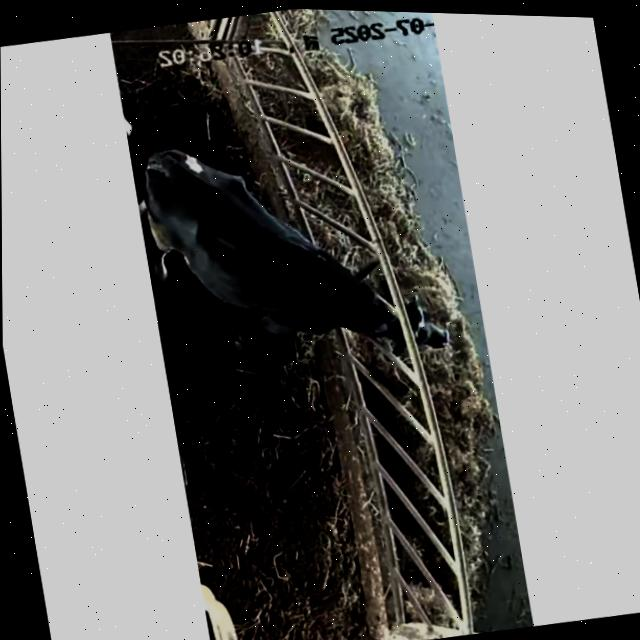eat: (297, 252, 462, 387)
